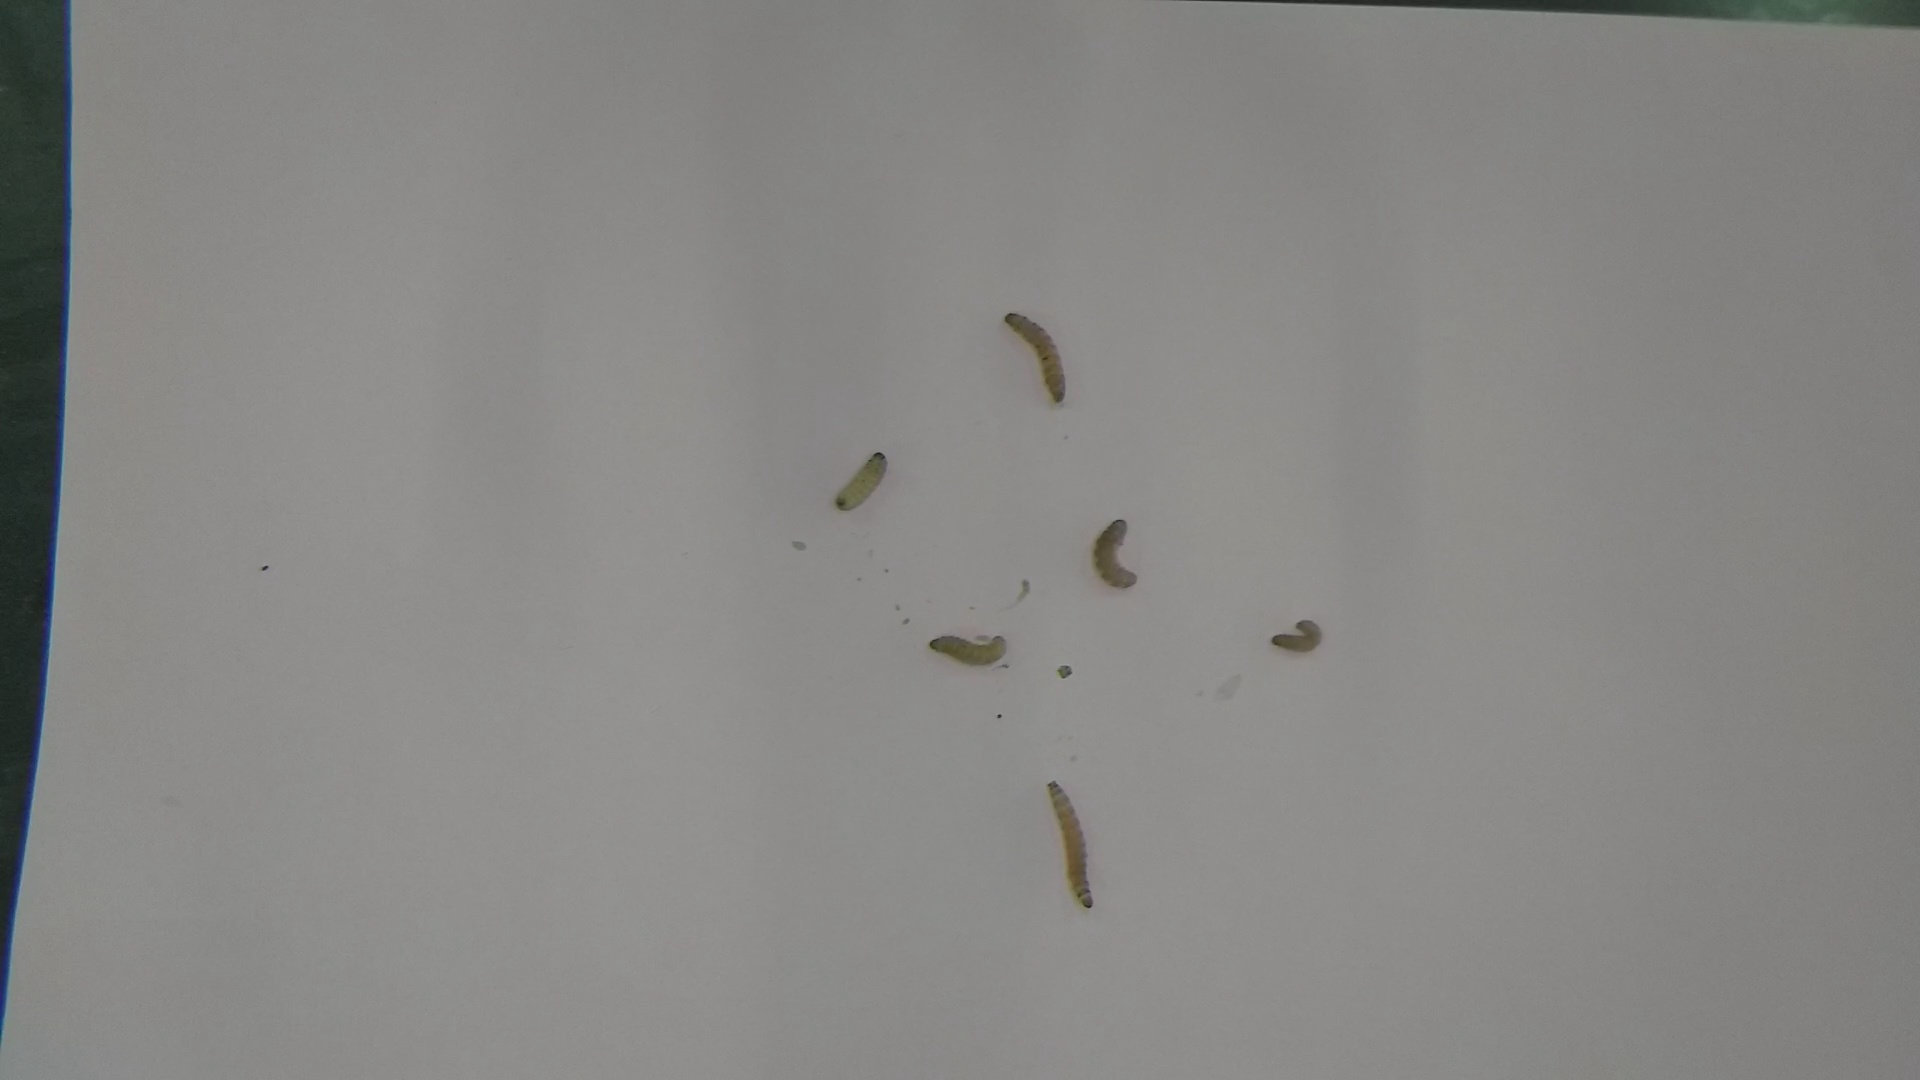efsb: (1039, 774, 1106, 924), (994, 305, 1072, 407), (1083, 514, 1147, 607), (828, 446, 895, 522), (916, 626, 1013, 673), (1262, 611, 1332, 666)
